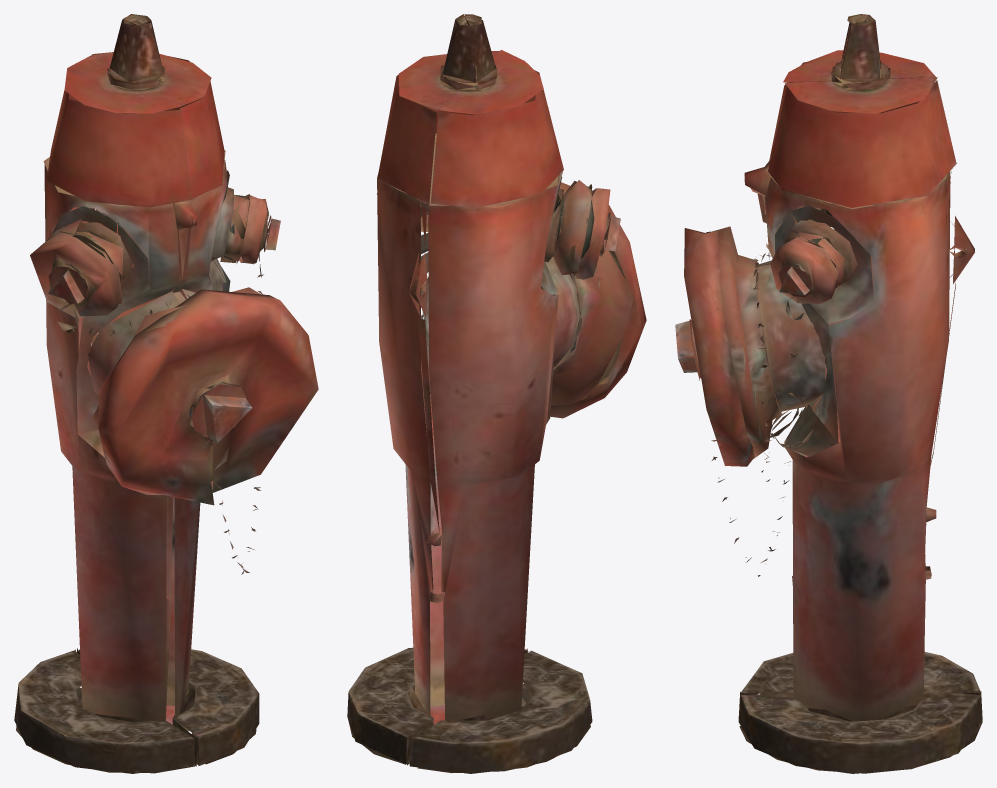
The model's file is hydrant_aged_ph.glb.
The picture shows the model from 3 angles, left to right: view 1: azimuth 30°, elevation 25°; view 2: azimuth 150°, elevation 25°; view 3: azimuth 270°, elevation 25°; orthographic projection.
Visible parts, largest first — view 1: hydrant_aged_ph-col; view 2: hydrant_aged_ph-col; view 3: hydrant_aged_ph-col.
Part boxes in pixels (box(x1,y1,x2,y2)): hydrant_aged_ph-col: box(14, 14, 318, 773); hydrant_aged_ph-col: box(347, 14, 646, 773); hydrant_aged_ph-col: box(675, 14, 982, 773).
Size of the model in its own units: 0.2777 by 0.8004 by 0.3173.
Materials: 1 (1 with a texture image).
